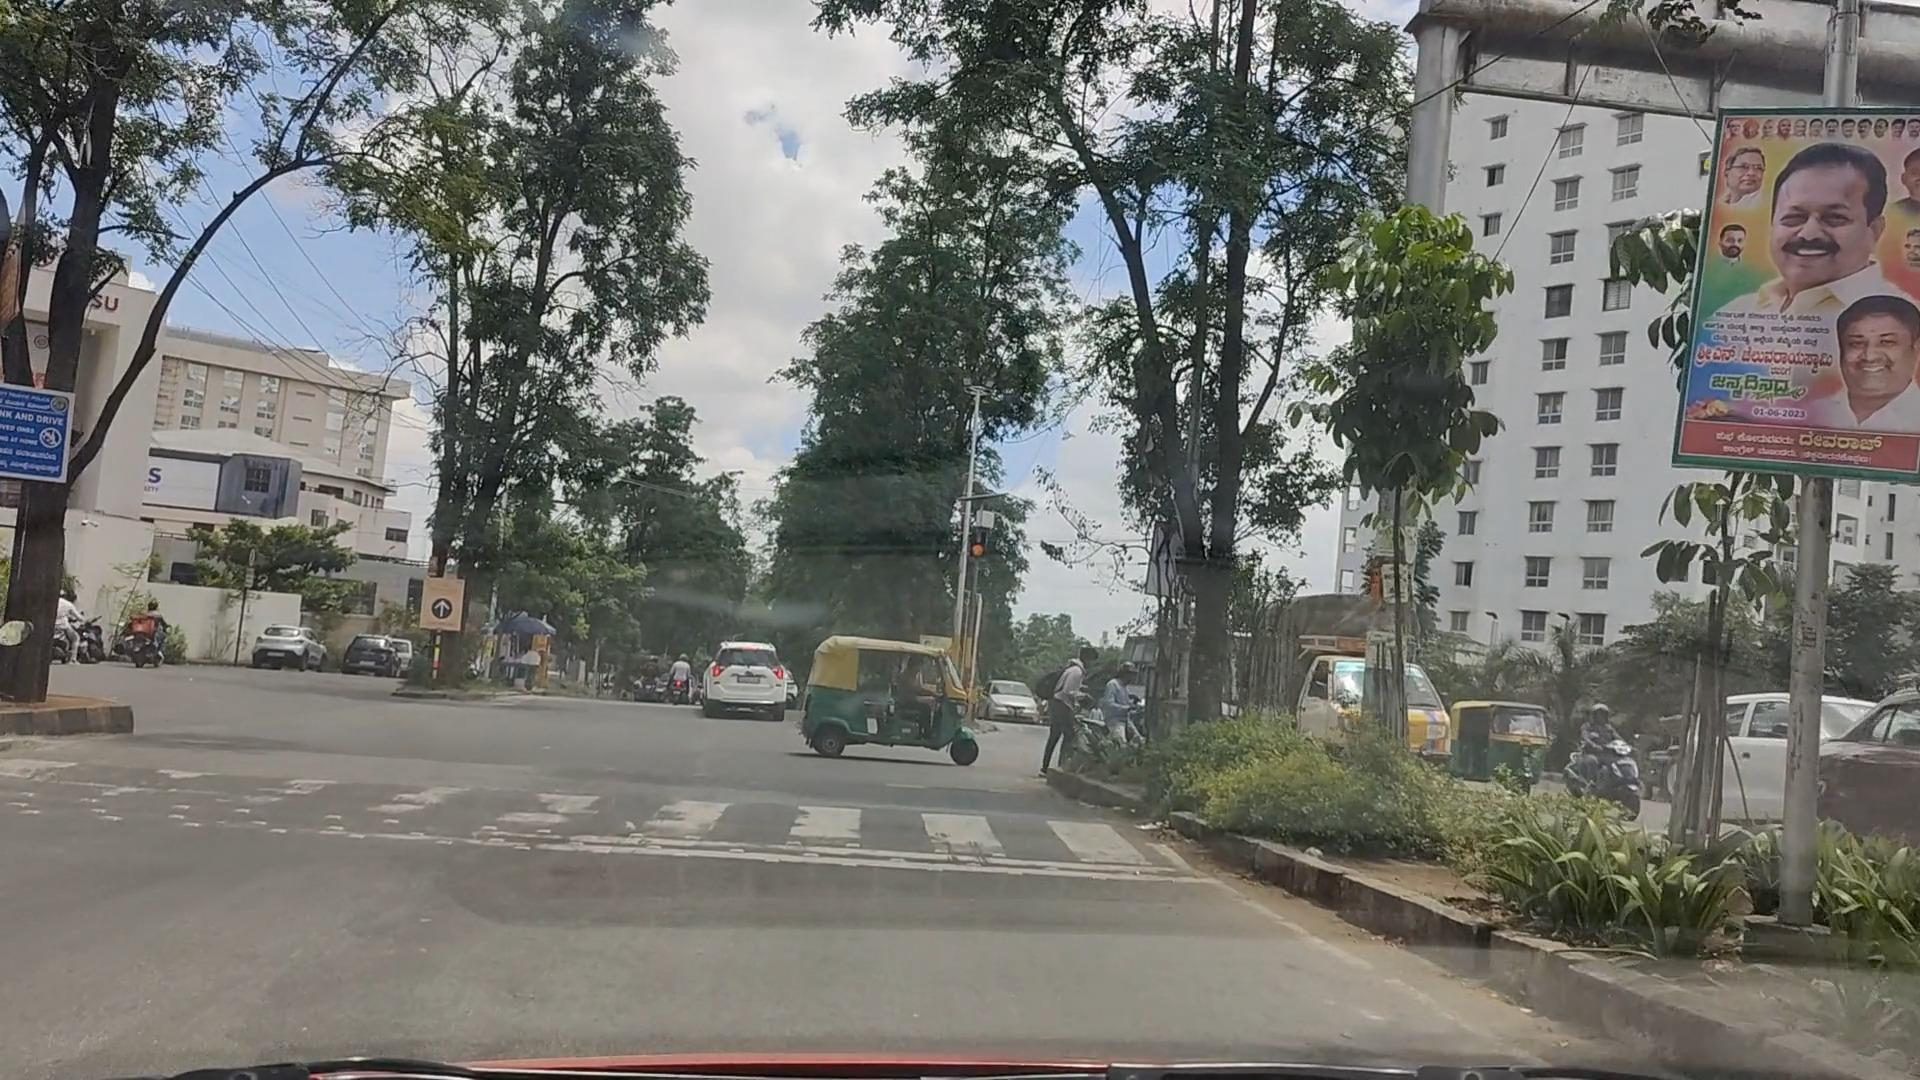LMV: (810, 645, 965, 748)
SpeedBump: (8, 760, 1160, 861)
